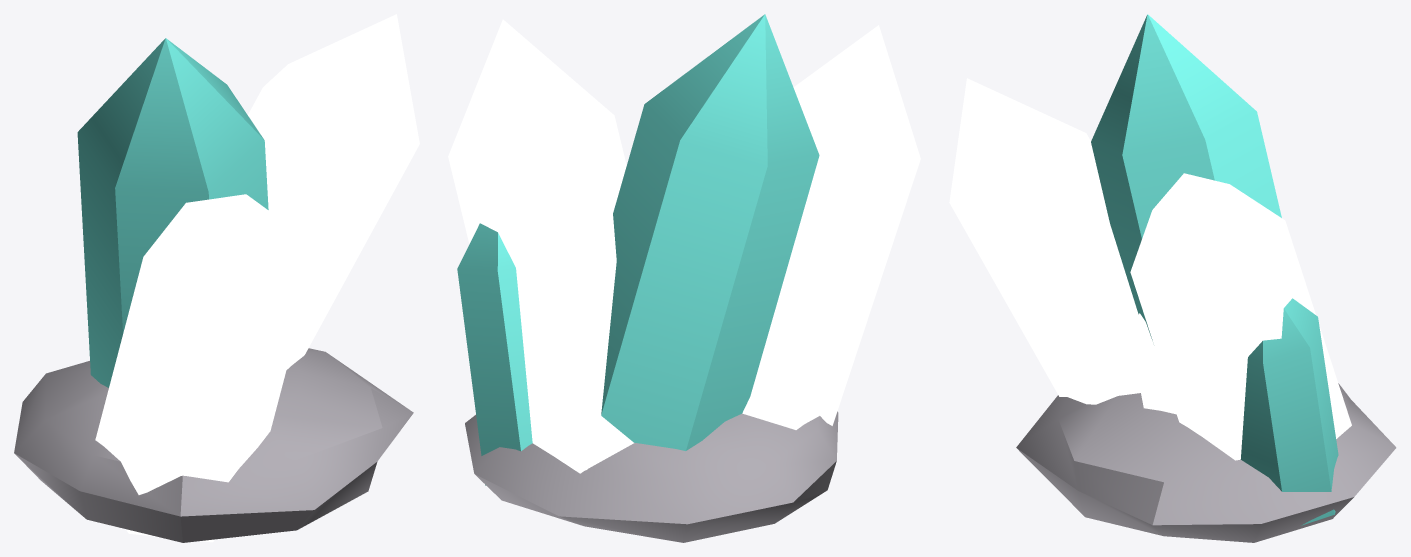
Rendered from MagicCrystal_Cluster.fbx.
The picture shows the model from 3 angles, left to right: view 1: azimuth 30°, elevation 25°; view 2: azimuth 150°, elevation 25°; view 3: azimuth 270°, elevation 25°; orthographic projection. The views are drawn at different scales.
Visible parts, largest first — view 1: MagicCrystal_Cluster; view 2: MagicCrystal_Cluster; view 3: MagicCrystal_Cluster.
Boxes of the visible parts, bbox=[...] form: MagicCrystal_Cluster: bbox=[14, 14, 419, 542]; MagicCrystal_Cluster: bbox=[448, 14, 920, 542]; MagicCrystal_Cluster: bbox=[949, 14, 1396, 542].
Size of the model in its own units: 2.19 by 2.88 by 2.54.
